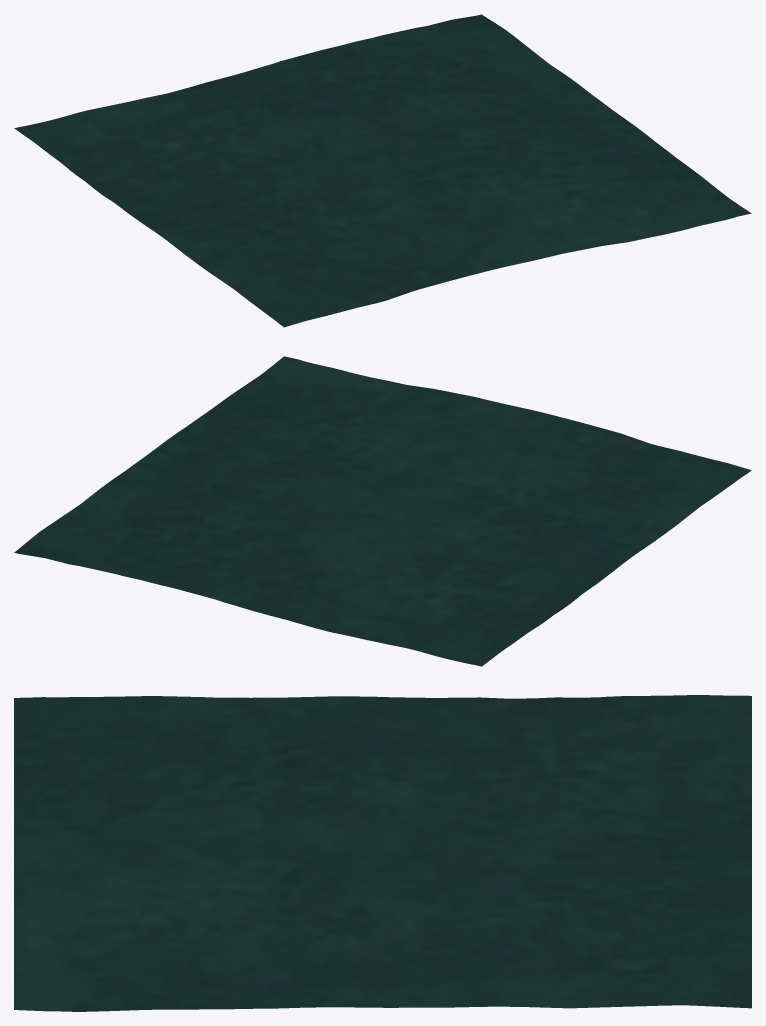
The picture shows the model from 3 angles, top to bottom: view 1: azimuth 30°, elevation 25°; view 2: azimuth 150°, elevation 25°; view 3: azimuth 270°, elevation 25°; orthographic projection. The views are drawn at different scales.
Bounding box in the file's own units: 52.22 × 1.1 × 52.22.
2 materials, 2 textured.
